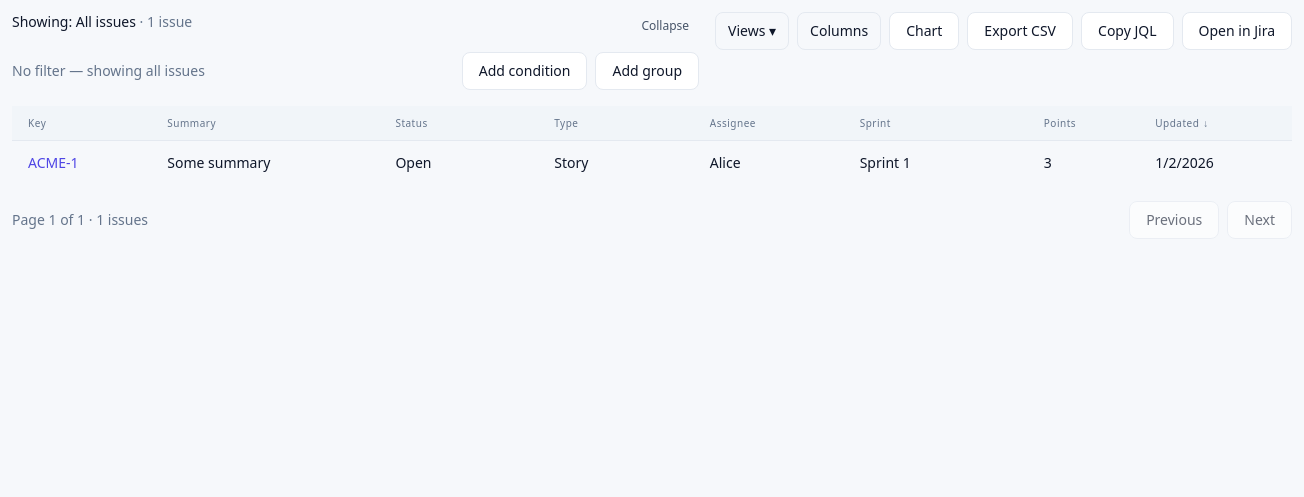
it: IssueList › does not flash the unfiltered empty state while the request after clearing a filter is still in flight
This screenshot has width=1304, height=497.
Click the button "Add condition": (525, 71) [462, 52, 588, 90]
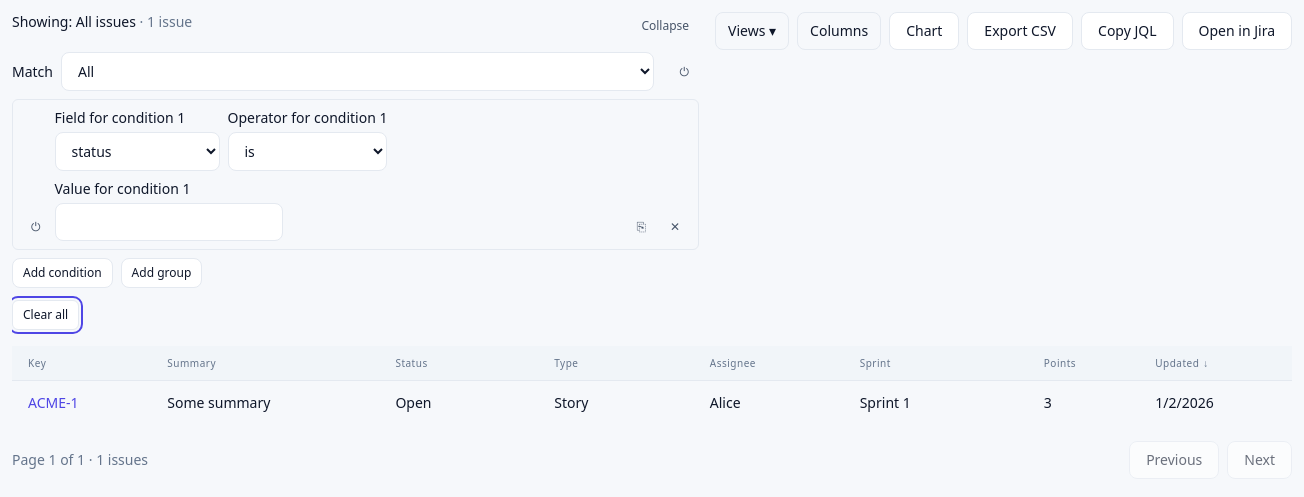
In the field labelled "Value for condition 1": (168, 222) [54, 203, 282, 241], type "Done"
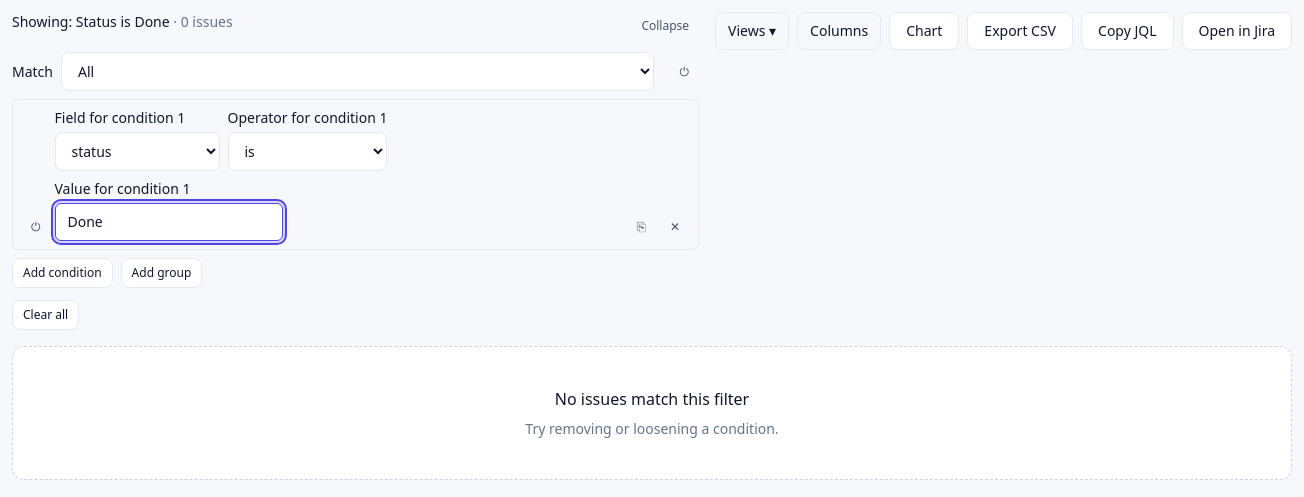
Expected: the text "No issues match this filter" is shown, [555, 387, 749, 411]
Click the button "Clear all": (46, 315) [12, 300, 79, 330]
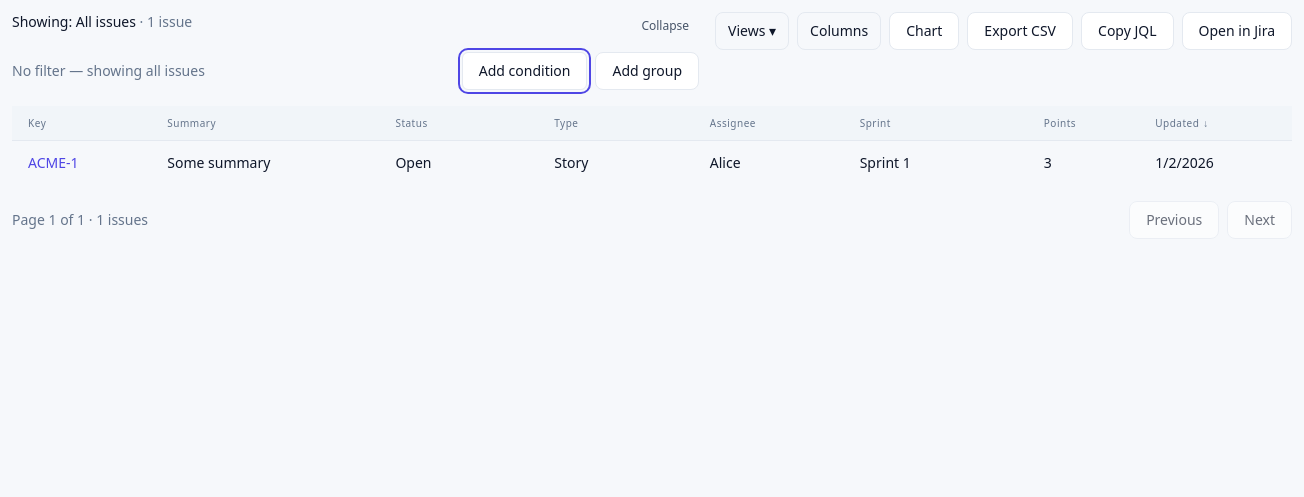
Expected: the text "No issues match this filter" is gone
Expected: the link "ACME-1" is shown, [28, 153, 78, 172]
